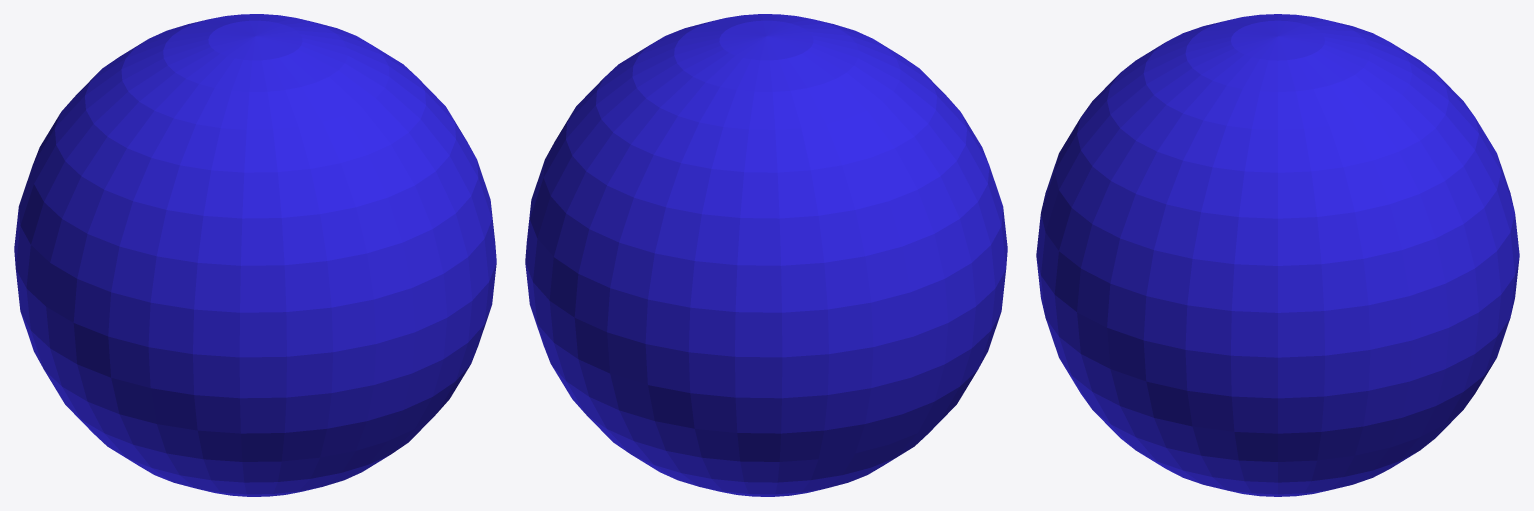
File: Esfera de energia.fbx
The picture shows the model from 3 angles, left to right: view 1: azimuth 30°, elevation 25°; view 2: azimuth 150°, elevation 25°; view 3: azimuth 270°, elevation 25°; orthographic projection.
Parts seen in each view (by area): view 1: Esfera de energia; view 2: Esfera de energia; view 3: Esfera de energia.
Part boxes in pixels (x1,y1,x2,y2): Esfera de energia: [14, 14, 496, 496]; Esfera de energia: [525, 14, 1007, 496]; Esfera de energia: [1036, 14, 1519, 496].
Bounding box in the file's own units: 30 × 30 × 30.
